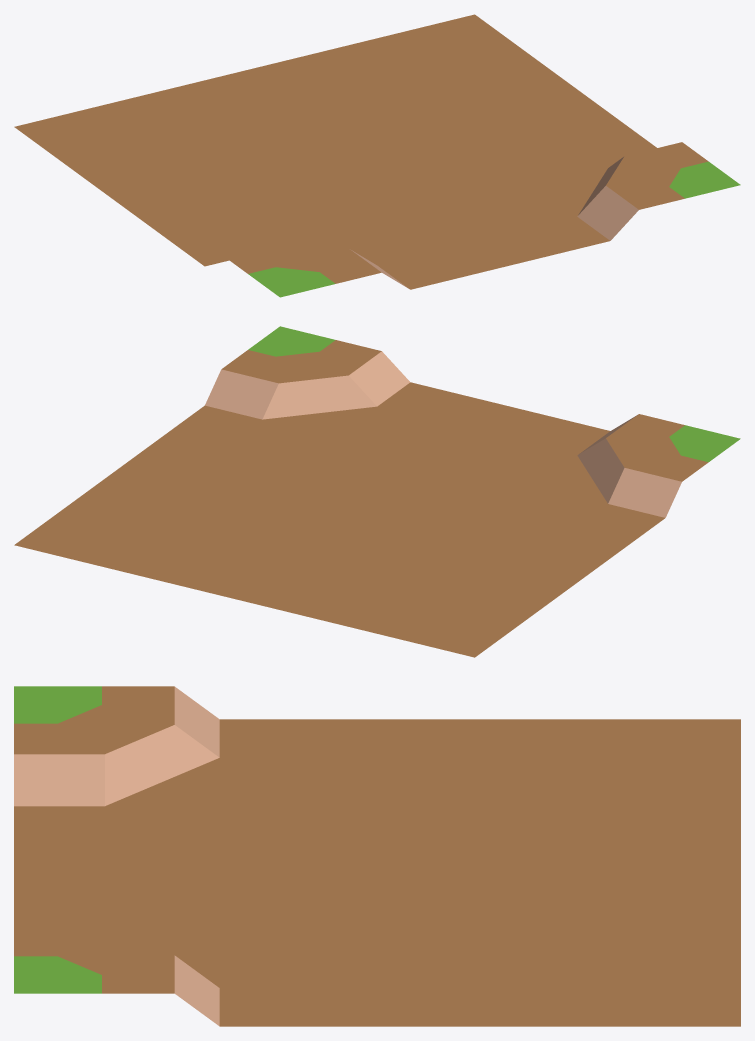
File: ground_pathSideOpen.glb
3 renders of one model, top to bottom at view 1: azimuth 30°, elevation 25°; view 2: azimuth 150°, elevation 25°; view 3: azimuth 270°, elevation 25°, orthographic. The views are drawn at different scales.
Visible parts, largest first — view 1: ground_pathSideOpen; view 2: ground_pathSideOpen; view 3: ground_pathSideOpen.
Boxes of the visible parts, x1=… form: ground_pathSideOpen: x1=14, y1=14, x2=740, y2=297; ground_pathSideOpen: x1=14, y1=326, x2=740, y2=657; ground_pathSideOpen: x1=14, y1=686, x2=740, y2=1026.
Size of the model in its own units: 1 by 0.05 by 1.
